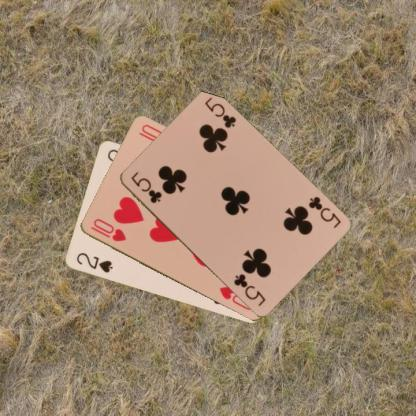10h: (87, 216, 127, 243)
2s: (73, 250, 114, 275)
5c: (306, 194, 342, 230), (128, 168, 163, 204)
